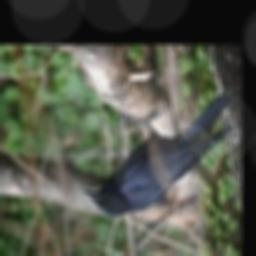Crow: (84, 91, 238, 218)
